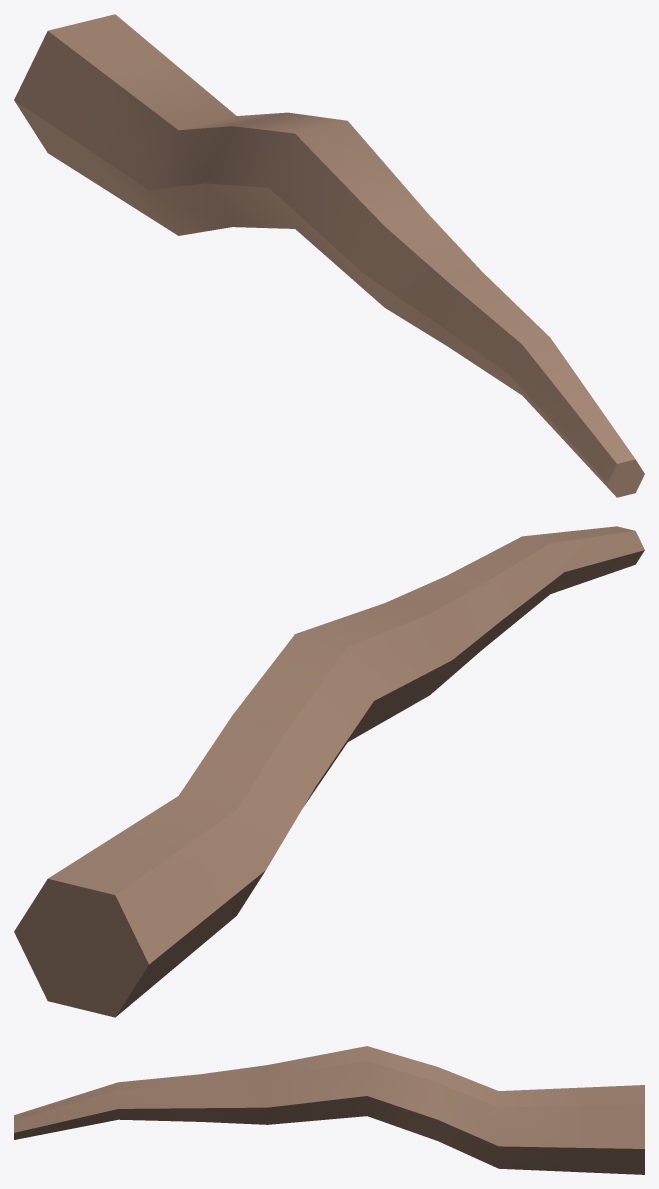
Rendered from tak2.fbx.
The picture shows the model from 3 angles, top to bottom: view 1: azimuth 30°, elevation 25°; view 2: azimuth 150°, elevation 25°; view 3: azimuth 270°, elevation 25°; orthographic projection. The views are drawn at different scales.
Parts seen in each view (by area): view 1: pCylinder3; view 2: pCylinder3; view 3: pCylinder3.
Boxes of the visible parts, x1,y1,x2,y2 form: pCylinder3: (14,14,644,497); pCylinder3: (14,526,644,1017); pCylinder3: (14,1046,644,1174).
Bounding box in the file's own units: 0.516 × 0.7054 × 3.6.
